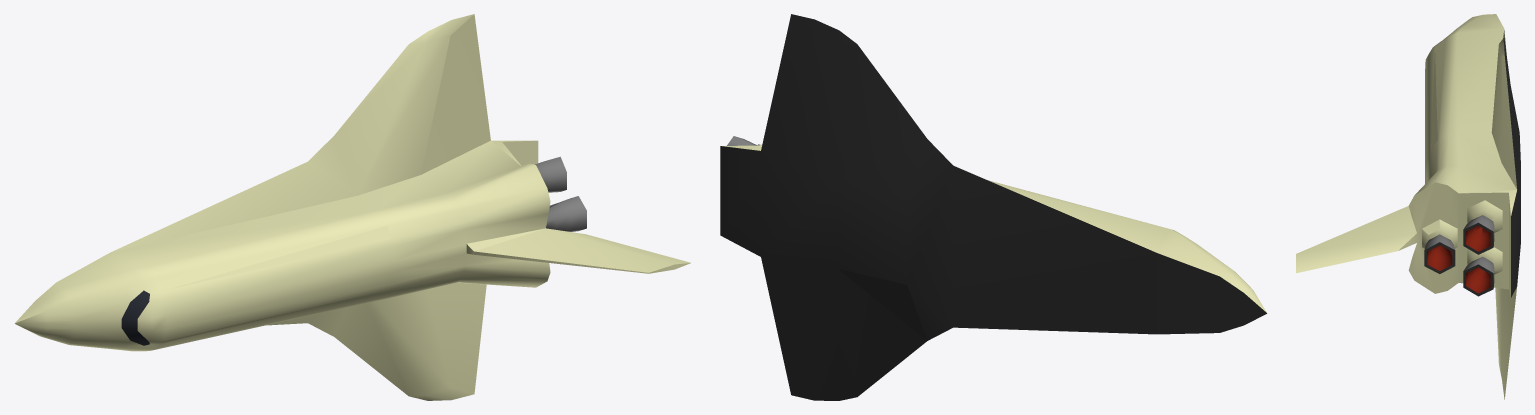
File: shuttle_tri2.obj
3 renders of one model, left to right at view 1: azimuth 30°, elevation 25°; view 2: azimuth 150°, elevation 25°; view 3: azimuth 270°, elevation 25°, orthographic. The views are drawn at different scales.
Visible parts, largest first — view 1: body, wings, tail, engout, windows, rearbody; view 2: tiles, body; view 3: body, rearbody, tail, wings, engmount, tiles, enginside, engrim, engout.
Part boxes in pixels (x1,y1,x2,y2): body: (14,140,550,351); wings: (111,14,490,400); tail: (466,228,690,273); engout: (535,156,586,231); windows: (121,290,149,345); rearbody: (491,140,538,165); tiles: (720,14,1266,400); body: (988,180,1267,313); body: (1415,14,1516,194); rearbody: (1398,182,1516,297); tail: (1296,206,1416,273); wings: (1491,30,1516,399); engmount: (1422,200,1502,274); tiles: (1503,38,1520,297); enginside: (1427,226,1490,293); engrim: (1424,222,1493,296); engout: (1424,215,1494,287).
Size of the model in its own units: 6 by 3.82 by 2.25.
